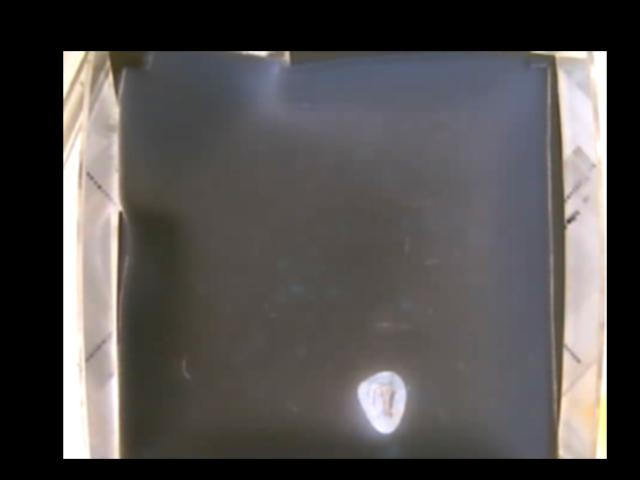Pebble: (357, 369, 406, 433)
